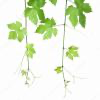grape leaf: (65, 0, 92, 31), (33, 16, 58, 43), (23, 1, 48, 26), (4, 21, 28, 45), (64, 45, 81, 62), (24, 43, 36, 58)
